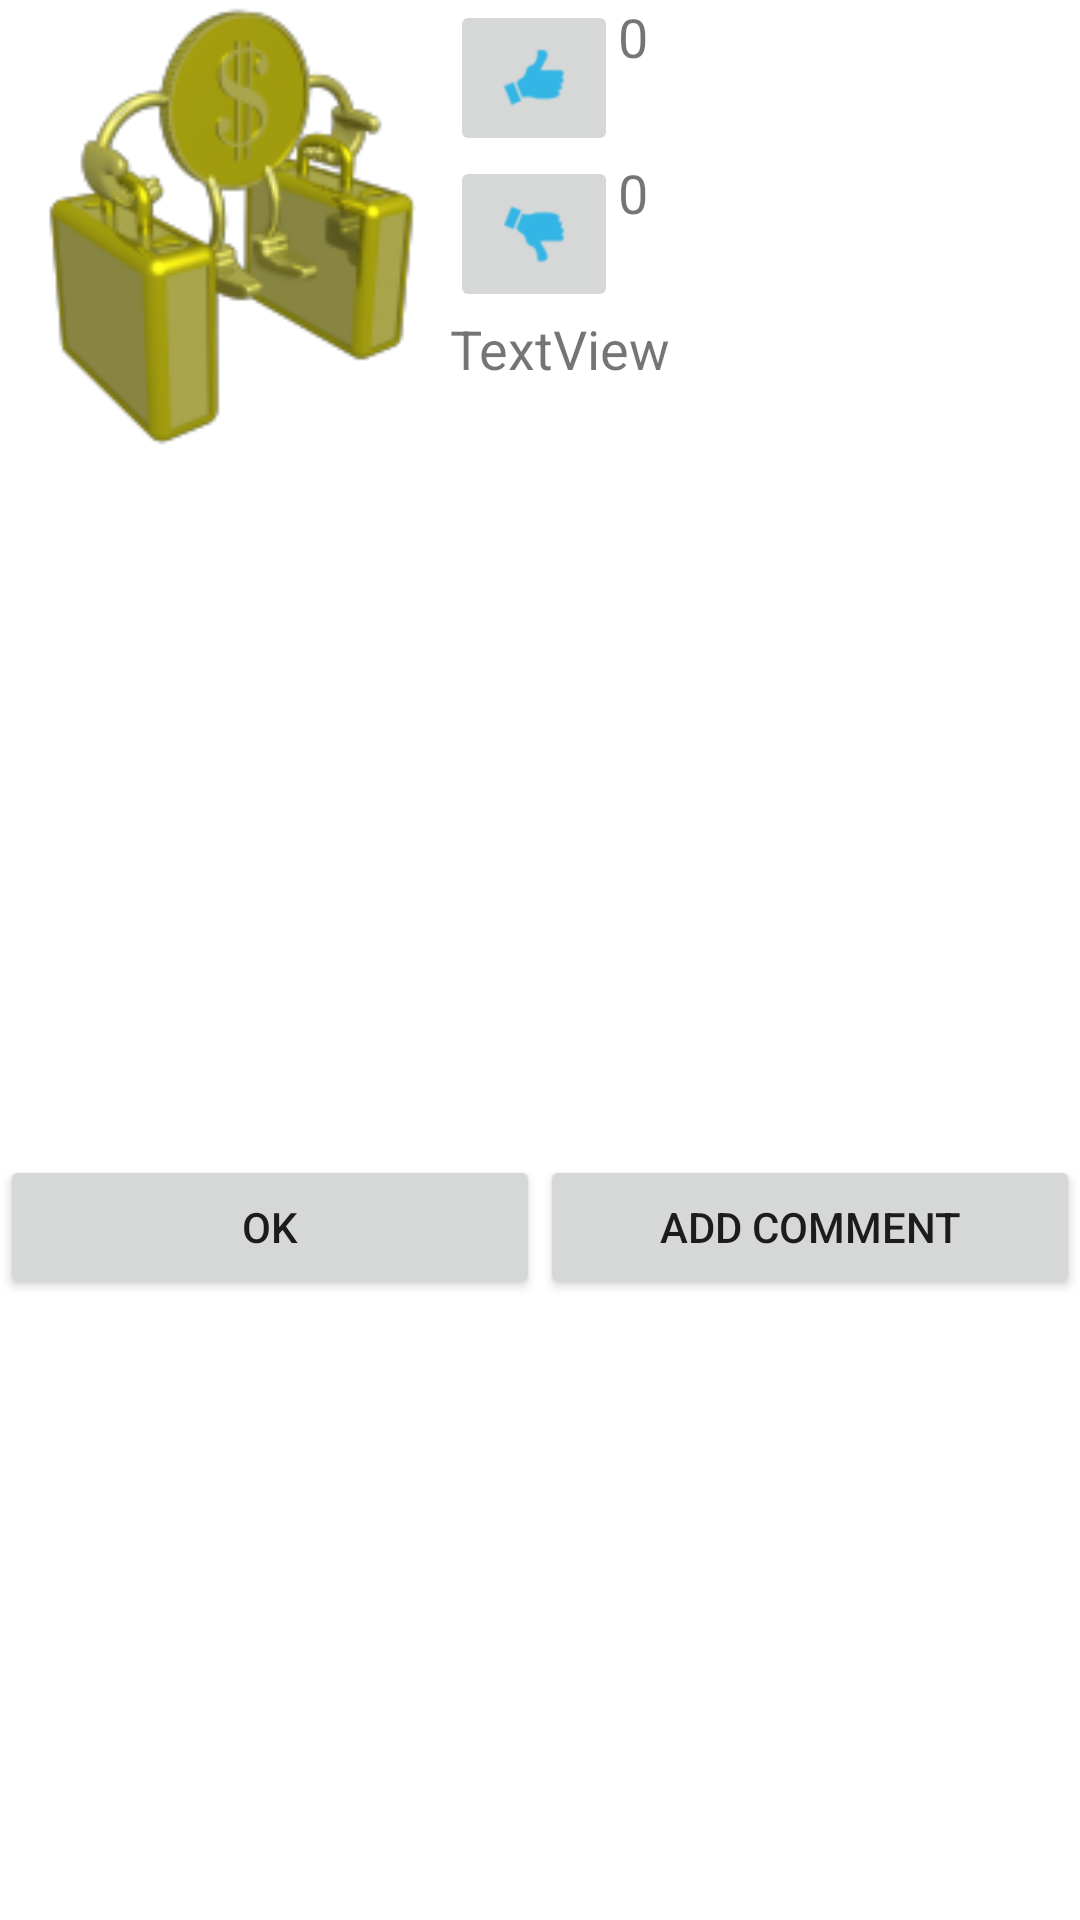

Screen size 1080*1920. Icon name, then its box in pixels as box(x1, y1, x2, y2):
thumb down: box(462, 174, 606, 294)
thumb up: box(462, 18, 606, 138)
